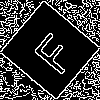F: (25, 25, 79, 78)
